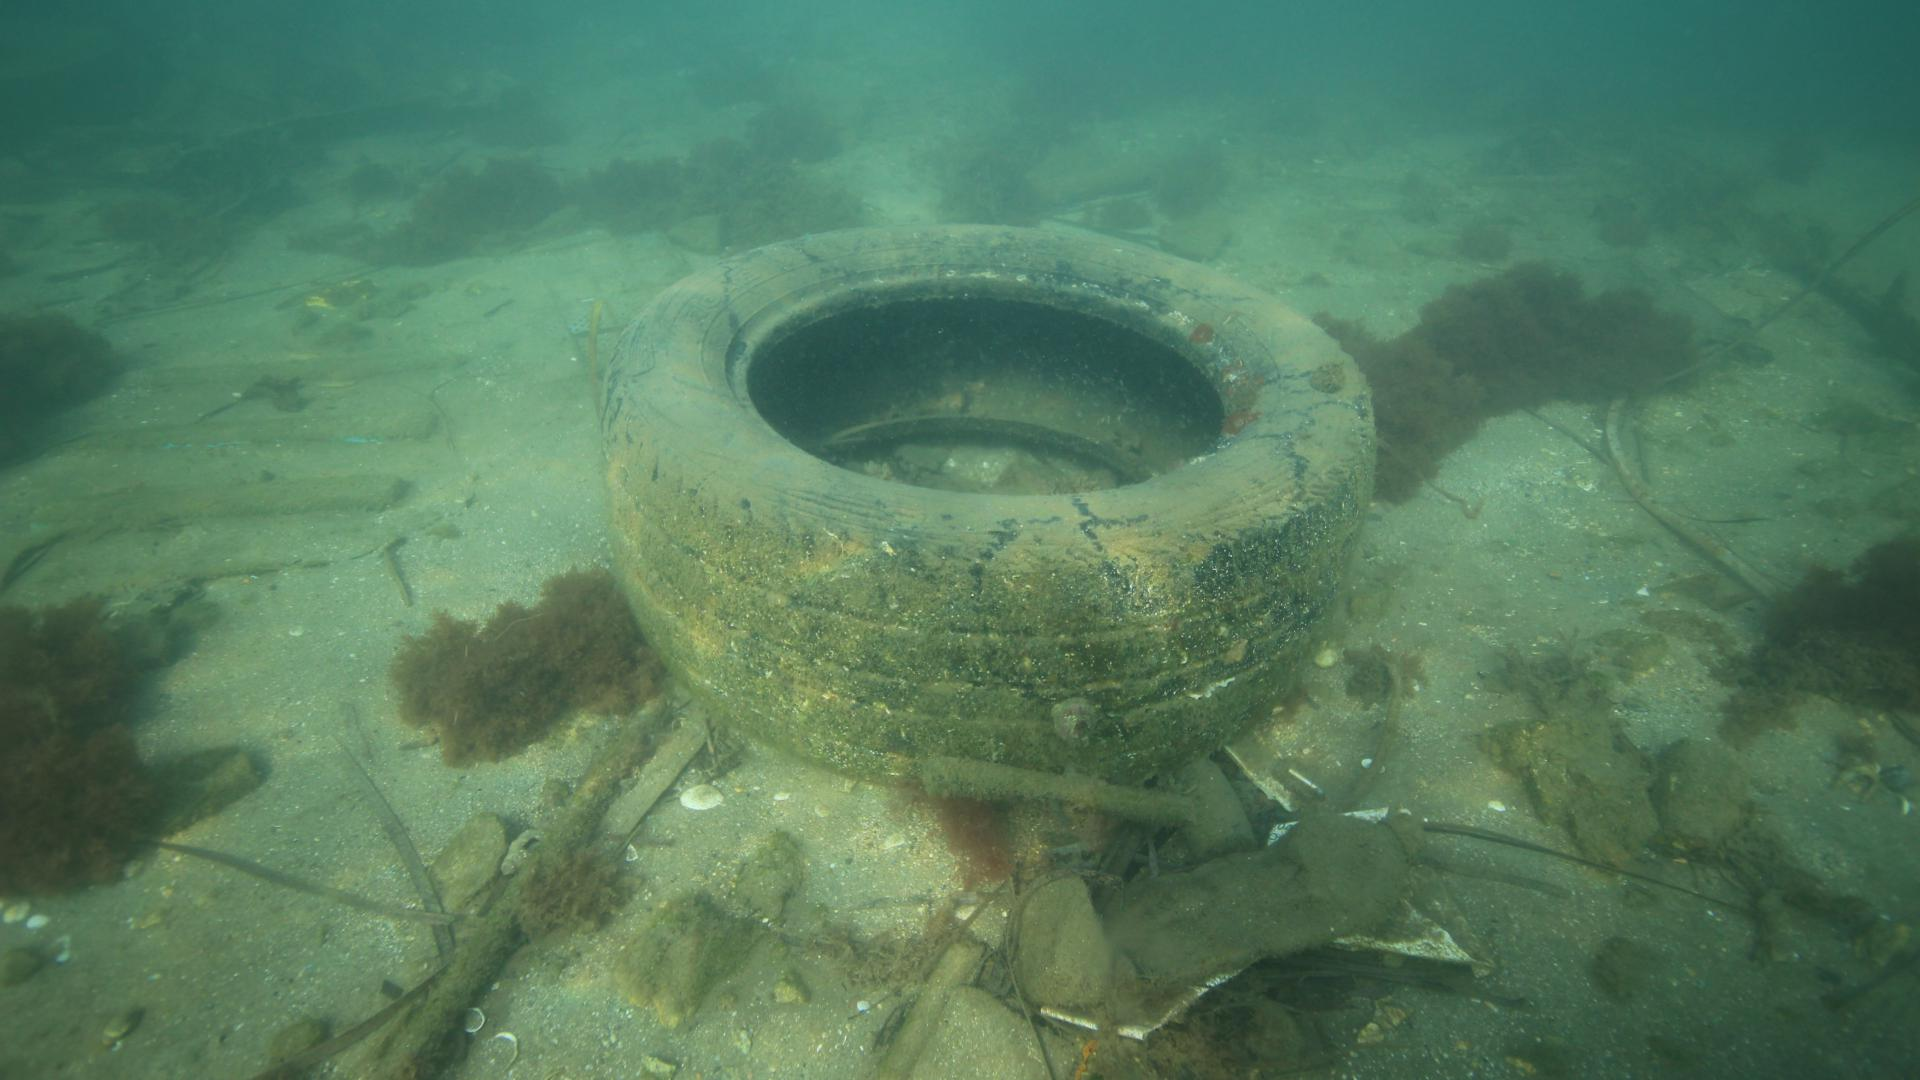rope: (367, 913, 520, 1080)
tire: (597, 220, 1377, 787)
